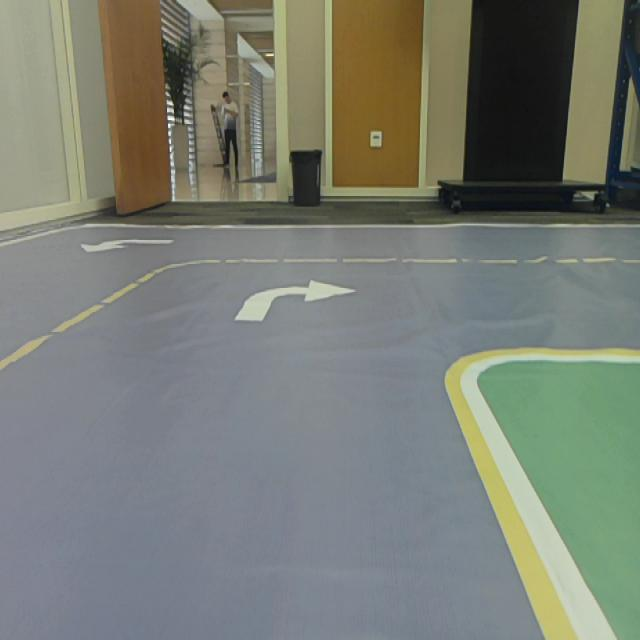left_lane: (0, 269, 167, 371)
right_lane: (445, 381, 579, 638)
